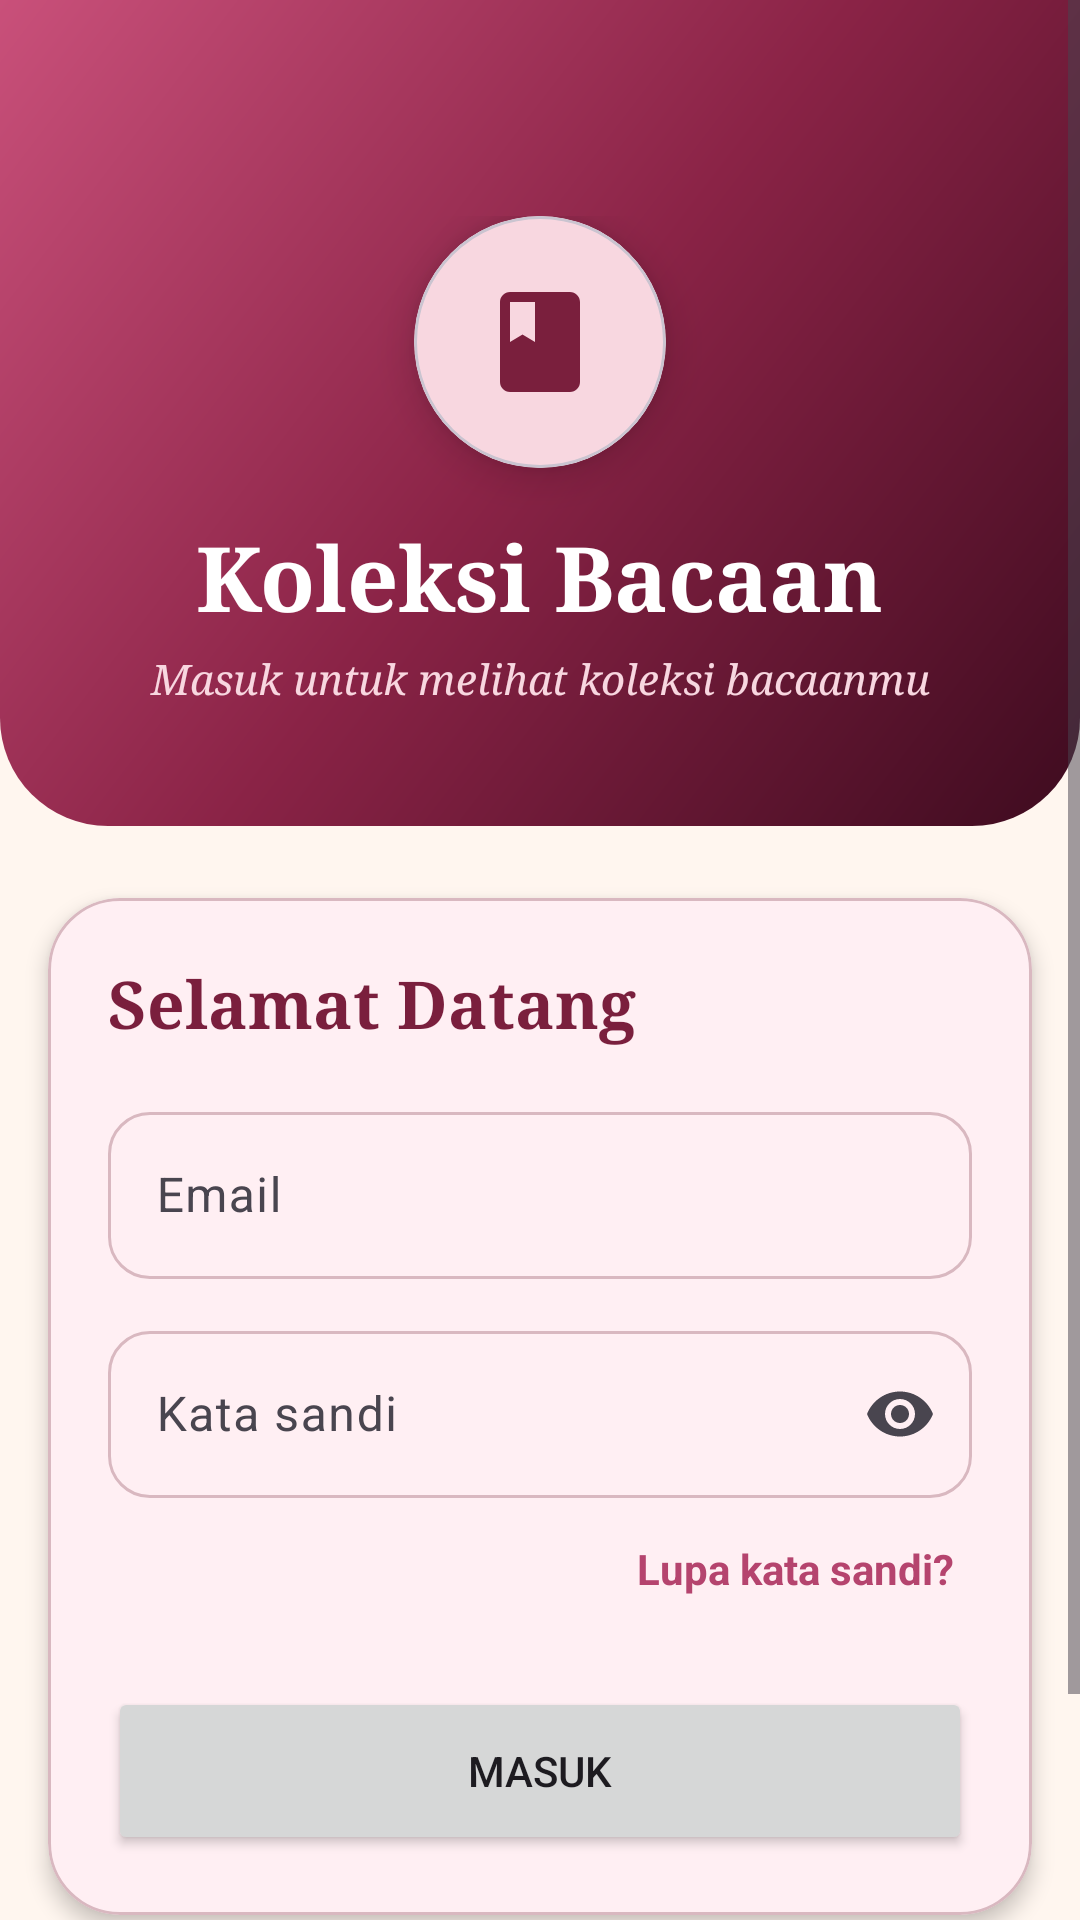

Locate icon controls on the screen. Image size 1080 × 1920, boxes as (x1,y1,x2,y2).
book: (414,216,666,468)
